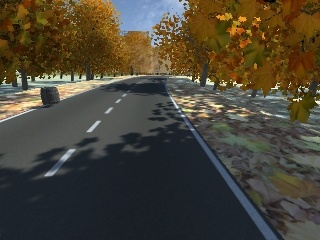Barrel: (40, 86, 60, 107)
